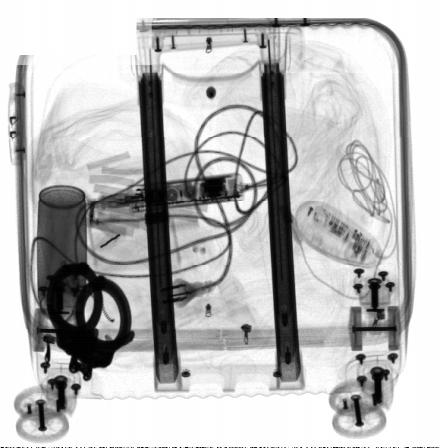HandCuffs: (46, 261, 134, 386)
